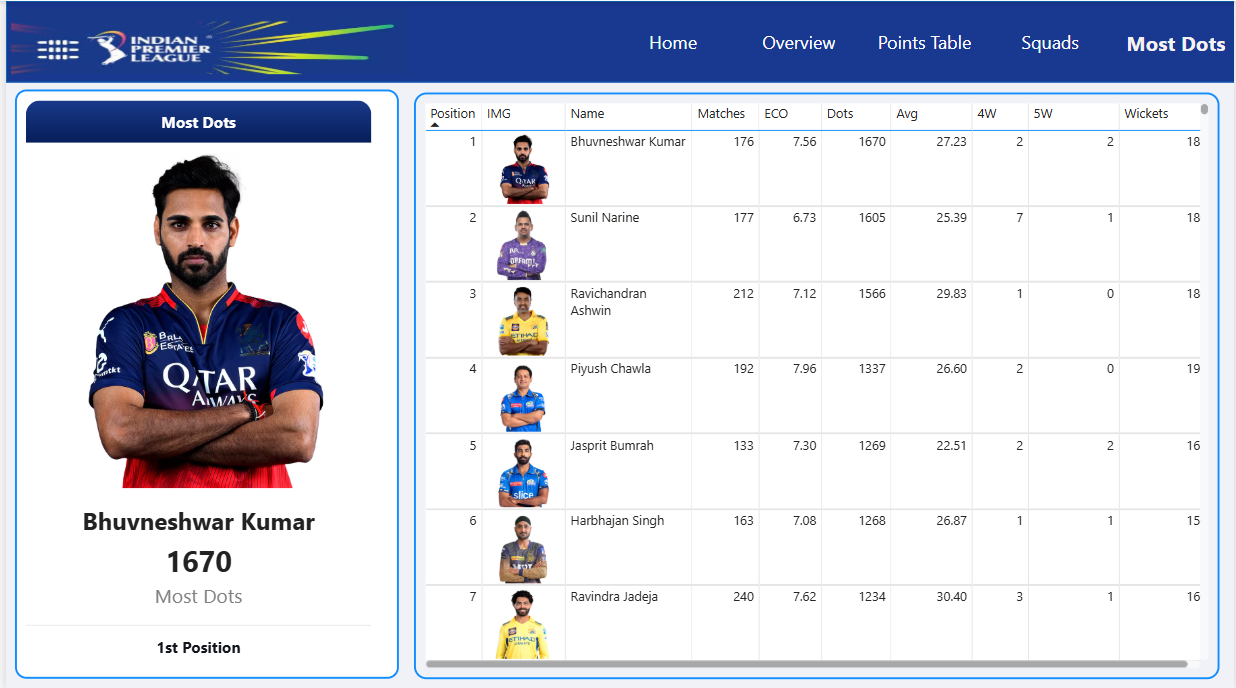

The page's visual inventory and layout, read from the dashboard file:
{"tool":"powerbi","page":{"name":"Most Dots","canvas":[1280,720],"ordinal":6},"visuals":[{"type":"shape","box":[0,0,2000.6,85],"z":0,"group":"g1"},{"type":"htmlContent443BE3AD55E043BF878BED274D3A6855","fields":{"content":["Records.Top_Players"]},"box":[9.4,92.2,400.1,614.3],"z":0},{"type":"image","box":[0,1.6,425.1,79.7],"z":1000,"group":"g1"},{"type":"tableEx","fields":{"Values":["Most Dots.Position","Most Dots.IMG","Most Dots.Name","Most Dots.Mat","Most Dots.ECO","Most Dots.Dots","Most Dots.Avg","Most Dots.4W","Most Dots.5W","Most Dots.Wickets"]},"box":[425.1,95.3,839.3,611.1],"z":1000},{"type":"actionButton","box":[0,0,100,40],"z":2000},{"type":"pageNavigator","box":[634.5,20.3,645.5,45.3],"z":2000,"group":"g1"},{"type":"group","id":"g1","title":"Group 1","box":[0,0,2000.6,85],"z":3000}]}

Visuals, with their boxes in screenshot pixels (x1, y1, x2, y2), scaled from the page's 1280x720 canvas onto the 1236x688 screenshot:
shape: box(0, 0, 1235, 81)
htmlContent443BE3AD55E043BF878BED274D3A6855 - Records.Top_Players: box(9, 88, 395, 675)
image: box(0, 2, 410, 78)
tableEx - Most Dots.Position x Most Dots.IMG: box(410, 91, 1221, 675)
actionButton: box(0, 0, 97, 38)
pageNavigator: box(613, 19, 1235, 63)
"Group 1" group: box(0, 0, 1235, 81)
